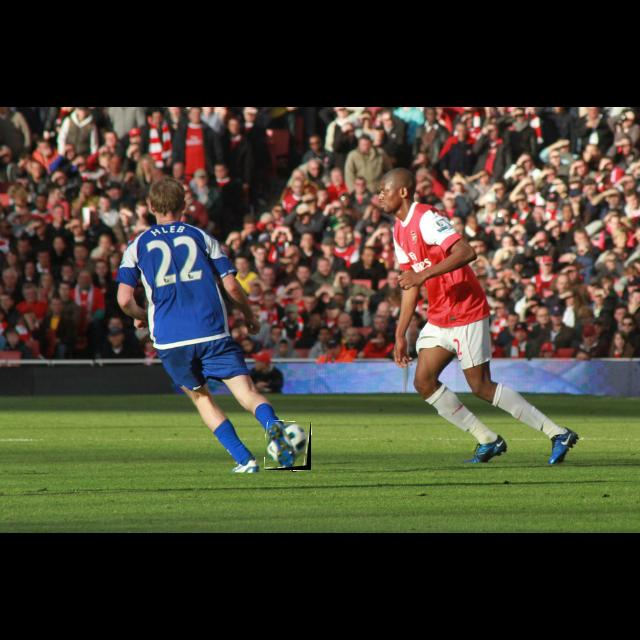Football: (265, 422, 311, 470)
